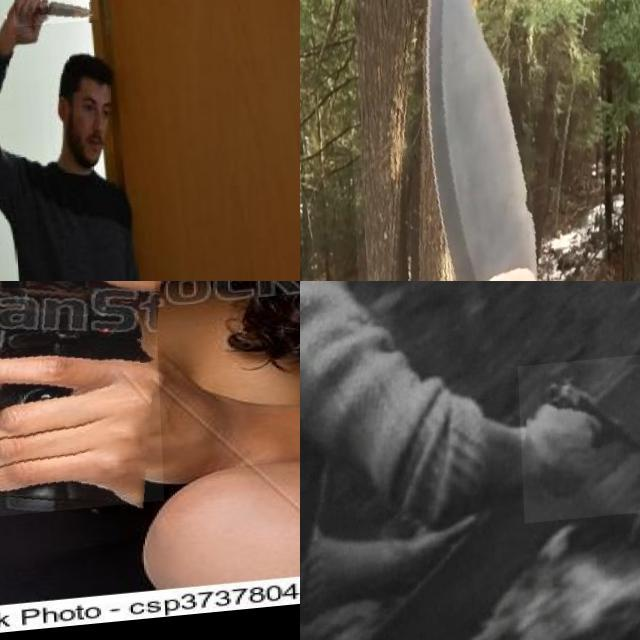-: (343, 0, 612, 281), (9, 0, 95, 33)
gun-knife-thesis - v11 Yolov5 augmented: (0, 281, 215, 541), (514, 365, 640, 532)
